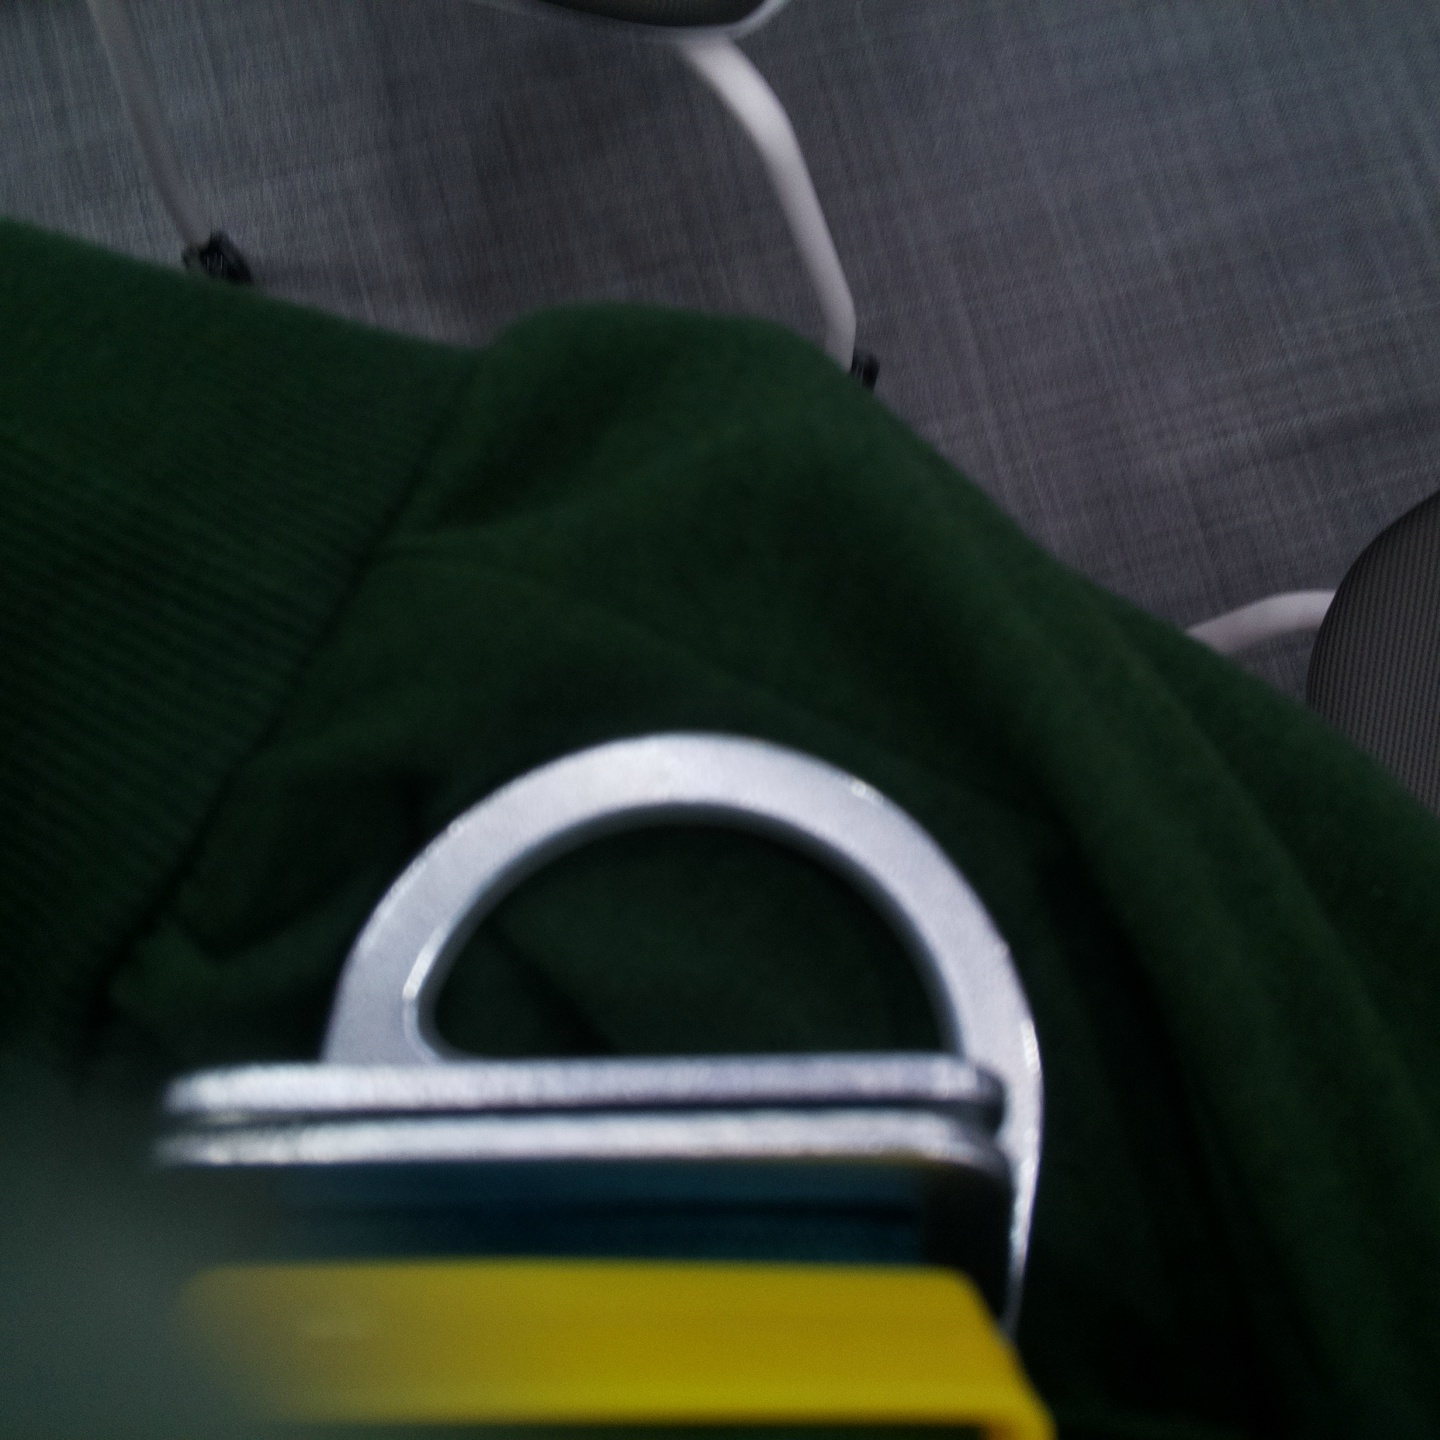UNSUCCESS: (320, 716, 1054, 1055), (1062, 897, 1151, 899)
